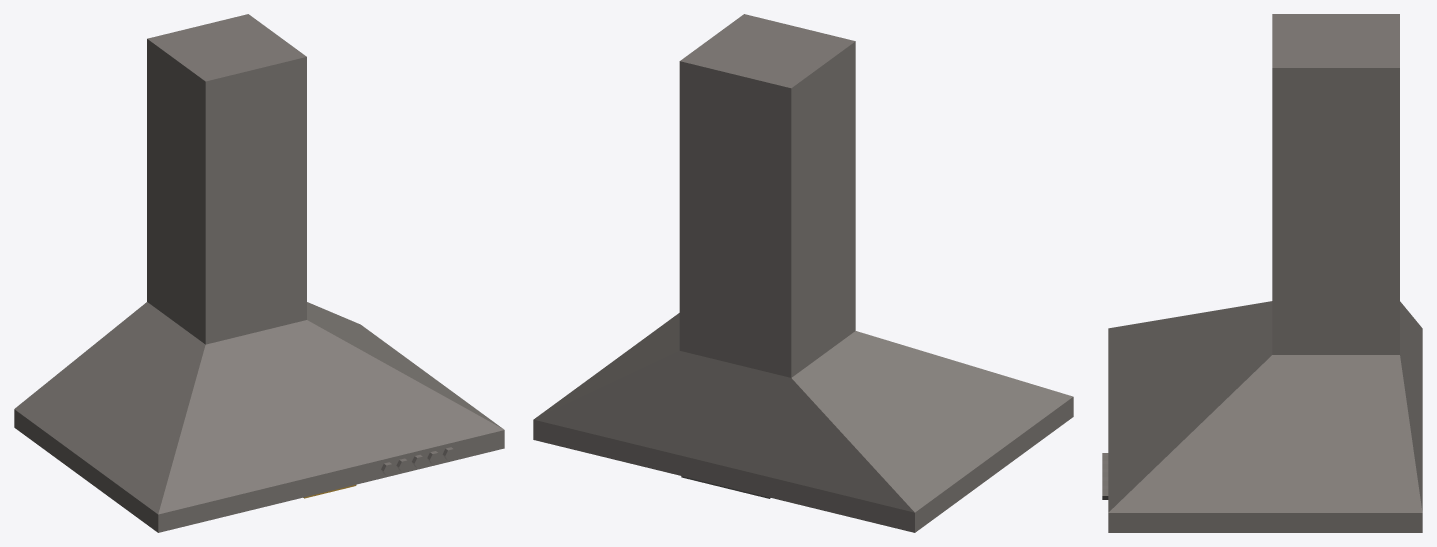
Rendered from kitchen_hood_01_A.gltf.
The picture shows the model from 3 angles, left to right: view 1: azimuth 30°, elevation 25°; view 2: azimuth 150°, elevation 25°; view 3: azimuth 270°, elevation 25°; orthographic projection. The views are drawn at different scales.
Parts seen in each view (by area): view 1: kitchen_hood_01_A; view 2: kitchen_hood_01_A; view 3: kitchen_hood_01_A.
Boxes of the visible parts, left/top/right/bottom form: kitchen_hood_01_A: left=14, top=14, right=504, bottom=532; kitchen_hood_01_A: left=533, top=14, right=1073, bottom=532; kitchen_hood_01_A: left=1108, top=14, right=1422, bottom=532.
Bounding box in the file's own units: 0.8323 × 0.8482 × 0.6102.
1 material, 1 textured.
